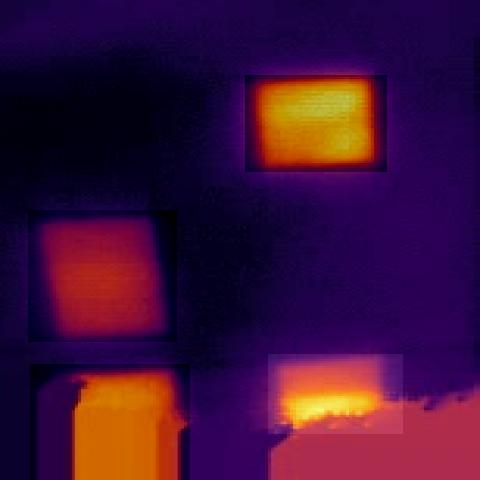fault: (28, 210, 177, 342), (30, 364, 190, 480), (245, 75, 387, 172), (268, 354, 403, 434)
